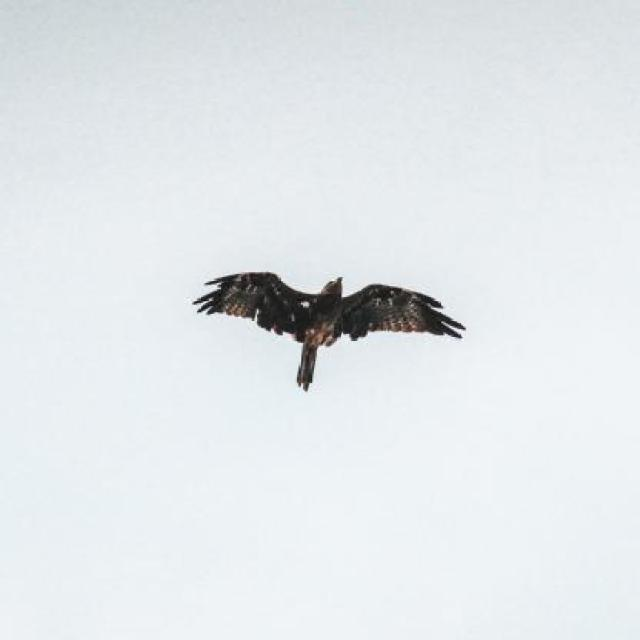bird: (196, 271, 461, 394)
